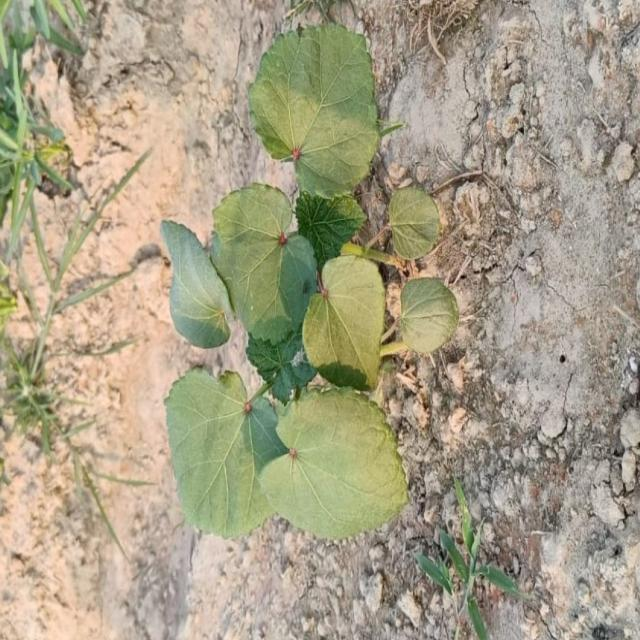plant: (161, 26, 459, 538), (389, 187, 439, 259)
